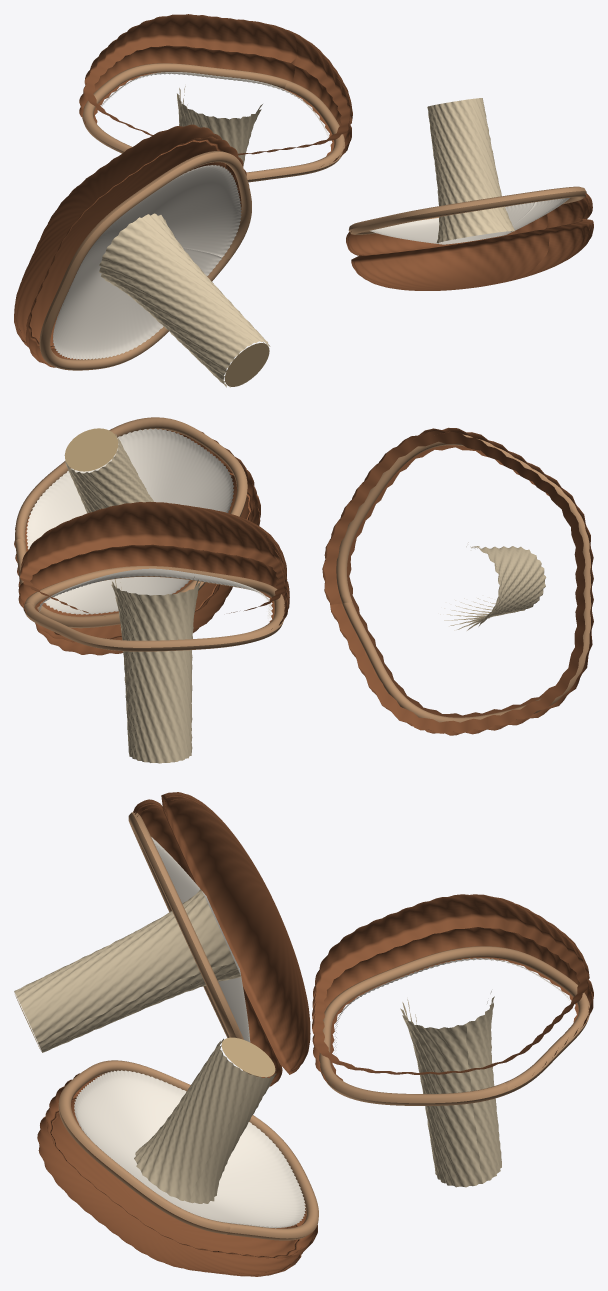
Rendered from jamur_shiitake.glb.
3 views of the same model, one above another, from view 1: azimuth 30°, elevation 25°; view 2: azimuth 150°, elevation 25°; view 3: azimuth 270°, elevation 25° (orthographic). The views are drawn at different scales.
Parts seen in each view (by area): view 1: shiitake_miring_gills, shiitake_tegak_cap, shiitake_terbalik_cap, shiitake_miring_cap, shiitake_miring_stem, shiitake_terbalik_stem, shiitake_miring_fringe, shiitake_tegak_fringe, shiitake_terbalik_fringe, shiitake_terbalik_gills, shiitake_tegak_stem, shiitake_miring_stem_cut (+1 smaller); view 2: shiitake_tegak_cap, shiitake_miring_cap, shiitake_terbalik_gills, shiitake_tegak_stem, shiitake_miring_fringe, shiitake_tegak_fringe, shiitake_terbalik_fringe, shiitake_terbalik_cap, shiitake_miring_stem, shiitake_terbalik_stem, shiitake_terbalik_stem_cut, shiitake_tegak_gills; view 3: shiitake_miring_cap, shiitake_tegak_cap, shiitake_miring_stem, shiitake_terbalik_gills, shiitake_terbalik_cap, shiitake_tegak_stem, shiitake_terbalik_stem, shiitake_tegak_fringe, shiitake_terbalik_fringe, shiitake_miring_fringe, shiitake_miring_gills, shiitake_terbalik_stem_cut.
Part boxes in pixels (<box>): shiitake_miring_gills: <box>53,165,241,359</box>; shiitake_tegak_cap: <box>79,14,352,166</box>; shiitake_terbalik_cap: <box>346,193,593,290</box>; shiitake_miring_cap: <box>14,124,249,367</box>; shiitake_miring_stem: <box>99,213,270,387</box>; shiitake_terbalik_stem: <box>427,98,514,243</box>; shiitake_miring_fringe: <box>39,151,251,370</box>; shiitake_tegak_fringe: <box>82,63,344,182</box>; shiitake_terbalik_fringe: <box>348,186,586,234</box>; shiitake_terbalik_gills: <box>370,198,569,244</box>; shiitake_tegak_stem: <box>177,86,262,165</box>; shiitake_miring_stem_cut: <box>224,343,269,386</box>; shiitake_tegak_cap: <box>18,501,289,629</box>; shiitake_miring_cap: <box>322,427,593,735</box>; shiitake_terbalik_gills: <box>26,428,233,614</box>; shiitake_tegak_stem: <box>111,576,200,763</box>; shiitake_miring_fringe: <box>336,434,591,722</box>; shiitake_tegak_fringe: <box>23,566,284,651</box>; shiitake_terbalik_fringe: <box>15,417,247,628</box>; shiitake_terbalik_cap: <box>14,429,260,655</box>; shiitake_miring_stem: <box>440,542,546,630</box>; shiitake_terbalik_stem: <box>64,434,153,513</box>; shiitake_terbalik_stem_cut: <box>65,428,118,471</box>; shiitake_tegak_gills: <box>38,568,271,618</box>; shiitake_miring_cap: <box>133,792,310,1086</box>; shiitake_tegak_cap: <box>312,894,593,1088</box>; shiitake_miring_stem: <box>14,889,240,1052</box>; shiitake_terbalik_gills: <box>74,1070,305,1228</box>; shiitake_terbalik_cap: <box>37,1073,317,1276</box>; shiitake_tegak_stem: <box>400,991,501,1187</box>; shiitake_terbalik_stem: <box>134,1037,276,1203</box>; shiitake_tegak_fringe: <box>319,946,589,1105</box>; shiitake_terbalik_fringe: <box>58,1060,318,1240</box>; shiitake_miring_fringe: <box>128,812,258,1076</box>; shiitake_miring_gills: <box>151,837,250,1042</box>; shiitake_terbalik_stem_cut: <box>221,1037,275,1077</box>.
Size of the model in its own units: 0.1521 by 0.0667 by 0.1229.
